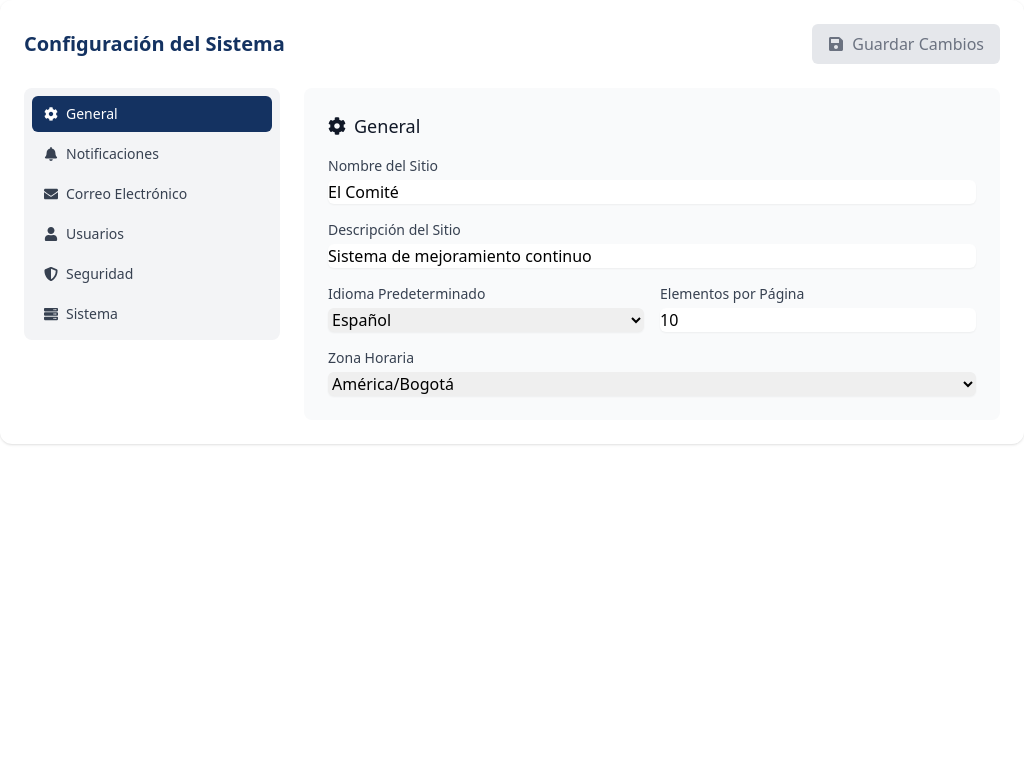
ConfigurationManagement › should render Email form when tab is clicked
The image size is (1024, 768).
Click the button "Correo Electrónico" at (152, 194), box [32,176,272,212]
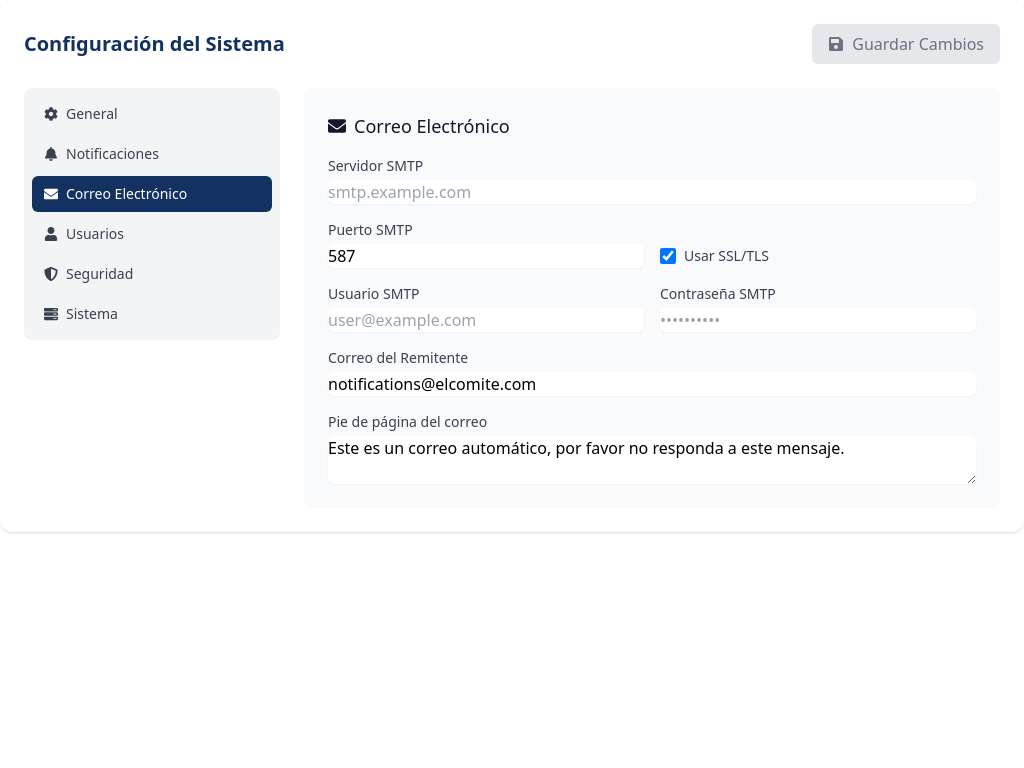
Expected: the field labelled "Usuario SMTP" is shown, [328,308,644,332]
Type "smtp.test.com" into the field labelled "Servidor SMTP" at (652, 192), box [328,180,976,204]
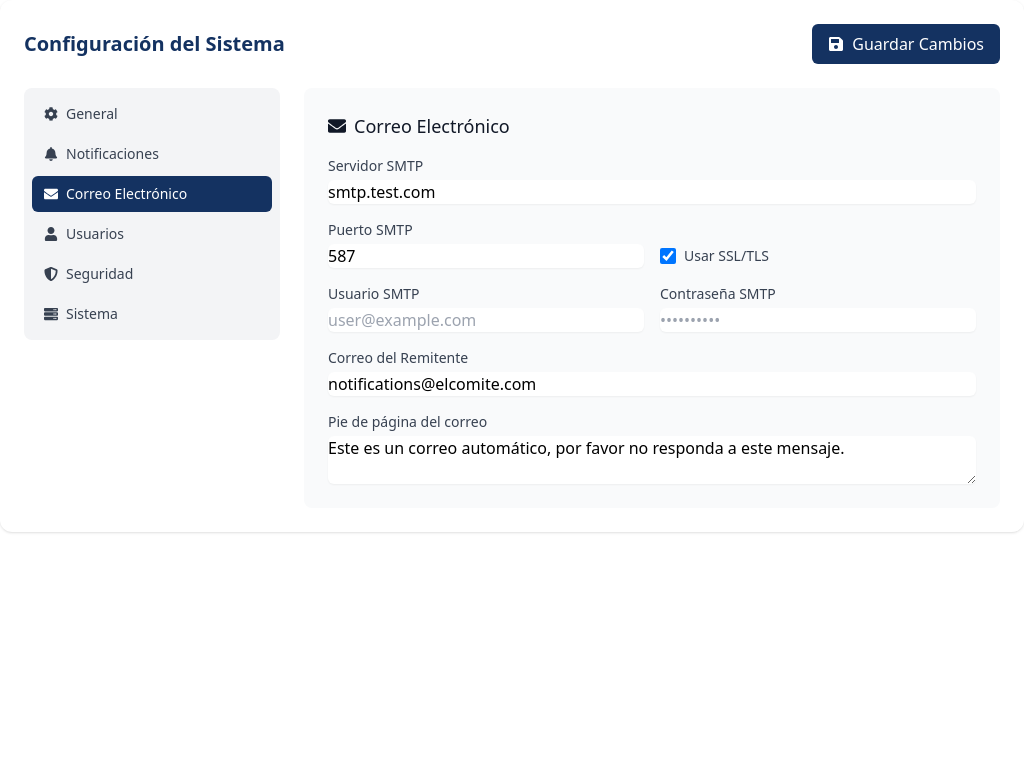
Expected: the button "Guardar Cambios" is enabled, [812,24,1000,64]
